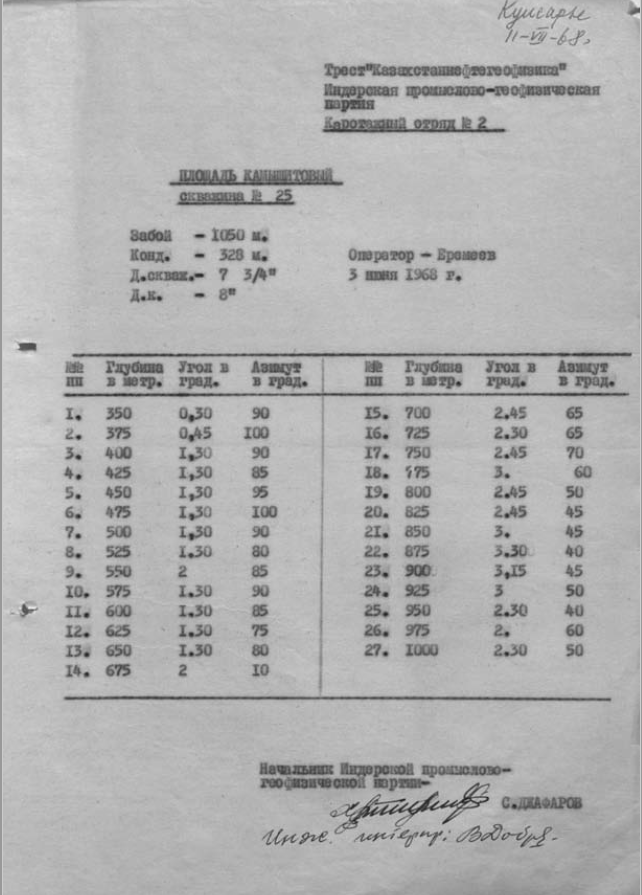Borderless: (54, 352, 632, 703)
